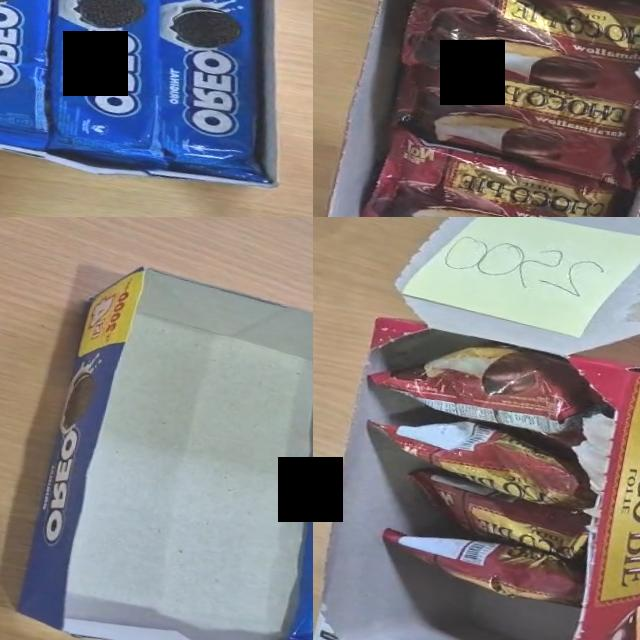Chocopie: (384, 52, 640, 194), (362, 322, 610, 452), (397, 0, 640, 115), (358, 402, 607, 514), (354, 124, 627, 217), (376, 520, 591, 611), (399, 466, 597, 564)
Oreo: (6, 0, 214, 181), (121, 0, 313, 192), (0, 0, 95, 156)
